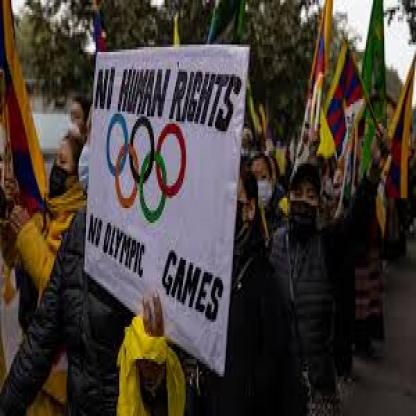BANNER: (82, 45, 251, 379)
